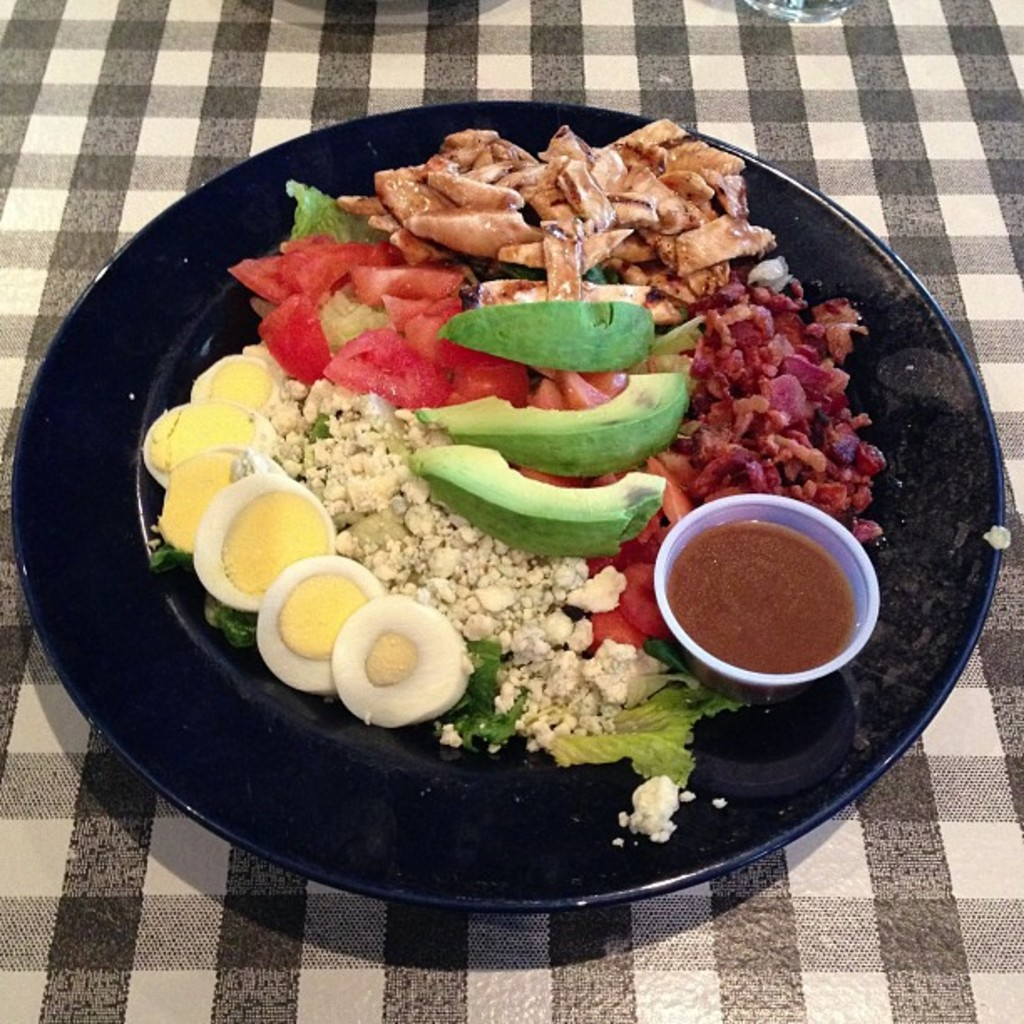salad: (144, 110, 883, 847)
